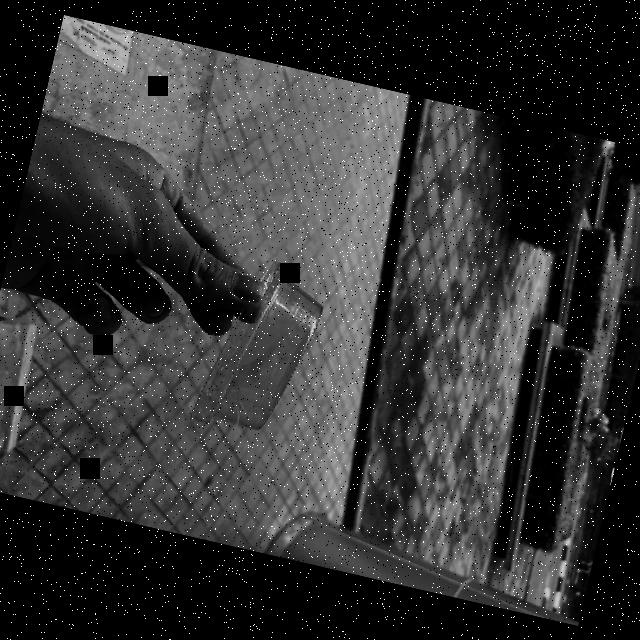plastic_cup_lid: (180, 254, 332, 451)
